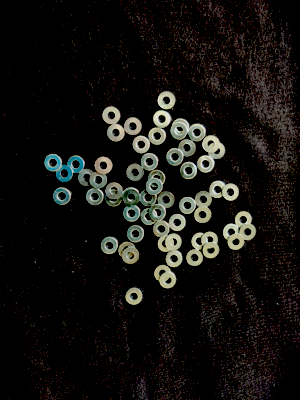circle: (153, 110, 171, 129), (172, 119, 190, 138), (44, 154, 62, 172), (56, 165, 74, 183), (67, 156, 85, 174), (95, 157, 113, 175), (126, 164, 144, 182), (123, 205, 141, 223), (149, 204, 167, 222), (146, 178, 164, 196), (148, 170, 166, 188), (132, 136, 150, 154), (158, 92, 176, 110), (169, 214, 187, 232), (191, 233, 209, 251), (179, 197, 197, 215), (180, 162, 198, 180), (170, 122, 188, 140), (188, 124, 206, 142), (197, 156, 215, 174), (202, 136, 220, 154), (108, 124, 125, 143), (54, 188, 71, 206), (78, 170, 96, 187), (90, 171, 107, 189), (86, 189, 104, 206), (101, 237, 118, 255), (118, 242, 136, 259), (122, 247, 139, 265), (125, 288, 143, 305), (103, 107, 120, 125), (125, 118, 142, 136), (105, 190, 123, 207), (123, 190, 141, 207), (149, 128, 166, 146), (157, 236, 175, 253), (186, 250, 204, 267), (194, 207, 212, 224), (209, 181, 226, 199), (222, 184, 240, 201), (166, 149, 184, 166), (223, 224, 240, 242), (154, 265, 171, 282), (160, 272, 177, 289), (106, 183, 123, 200), (123, 188, 140, 205), (127, 226, 144, 243), (141, 209, 158, 226), (140, 190, 157, 207), (141, 154, 158, 171), (158, 192, 175, 209), (153, 221, 170, 238), (165, 234, 182, 251), (166, 251, 183, 268), (201, 232, 218, 249), (203, 242, 220, 259), (195, 191, 212, 208), (179, 140, 196, 157), (235, 212, 252, 229), (228, 234, 245, 251), (209, 143, 225, 160), (240, 224, 256, 241)
